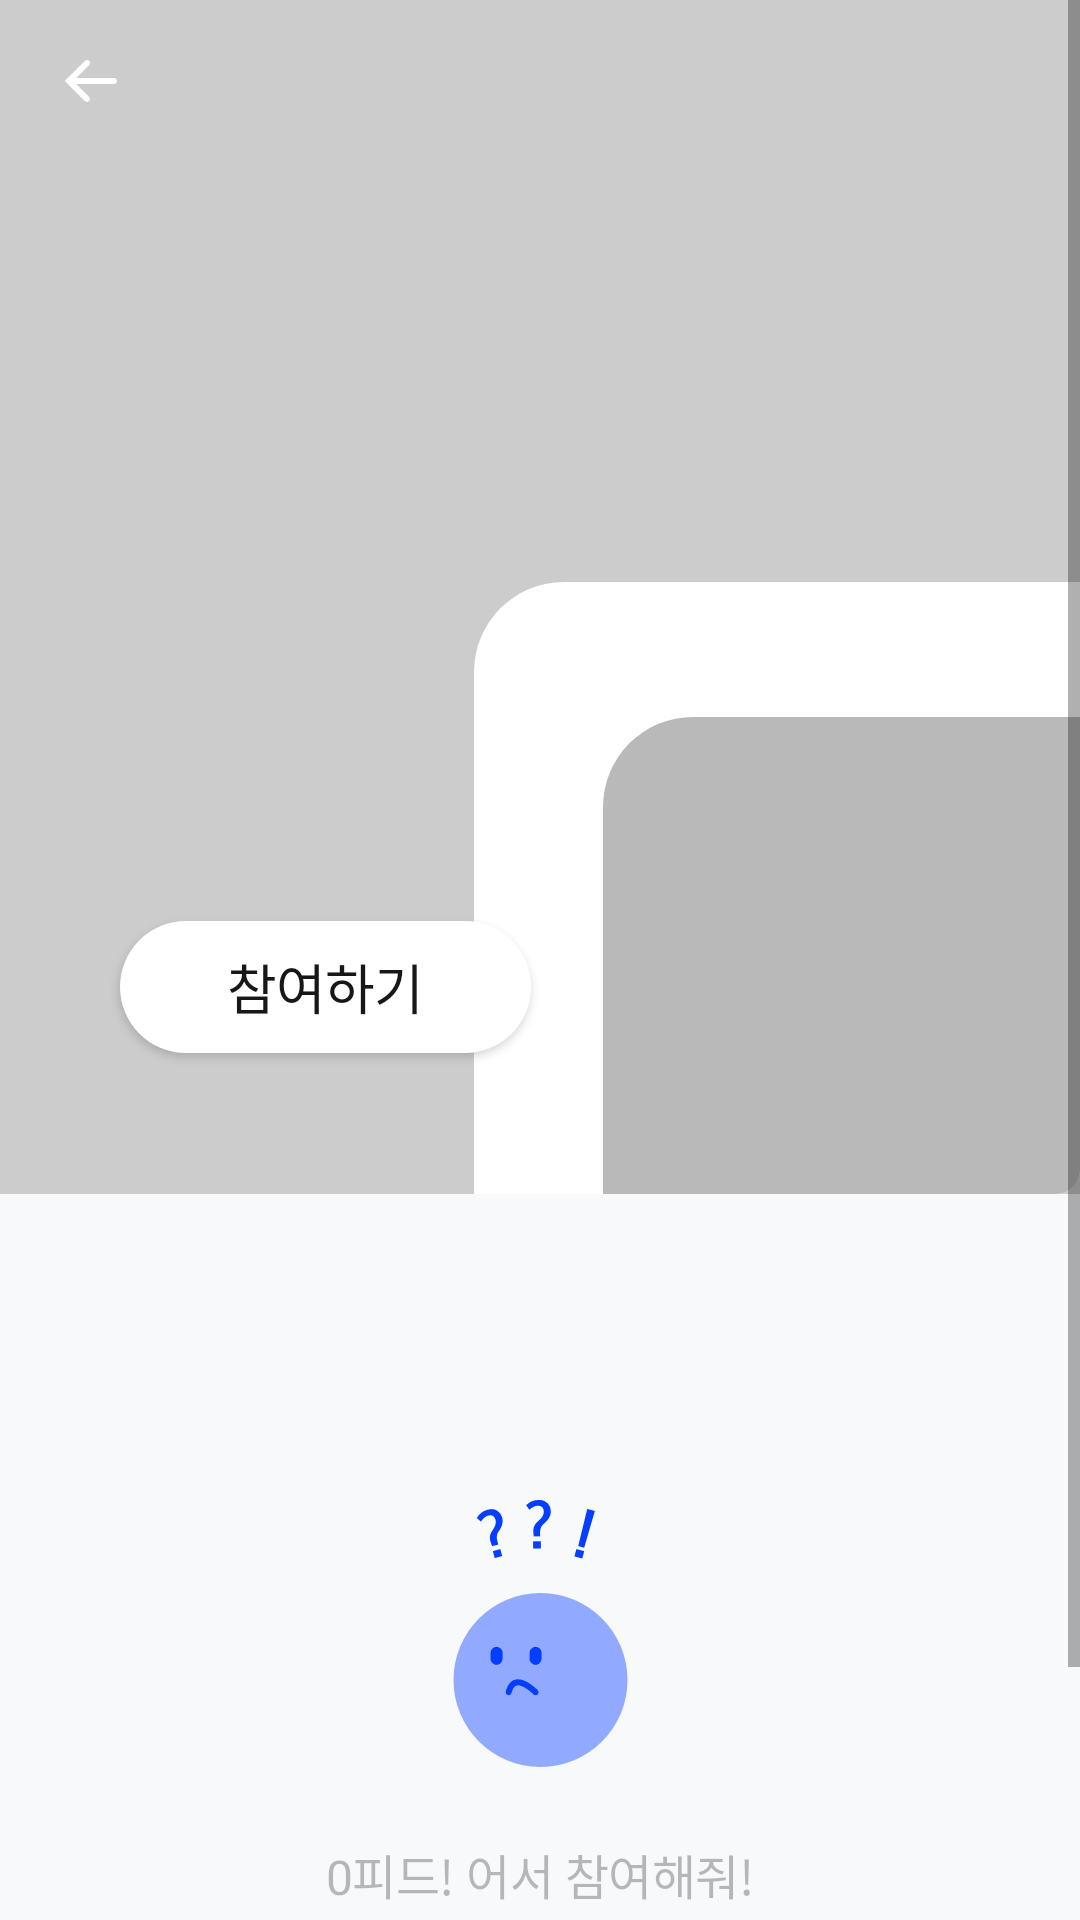

Locate icon controls on the screen. Image size 1080*1920, boxes as rect(x1, y1, x2, y2).
home empty: rect(453, 1500, 628, 1767)
title back: rect(65, 60, 117, 102)
